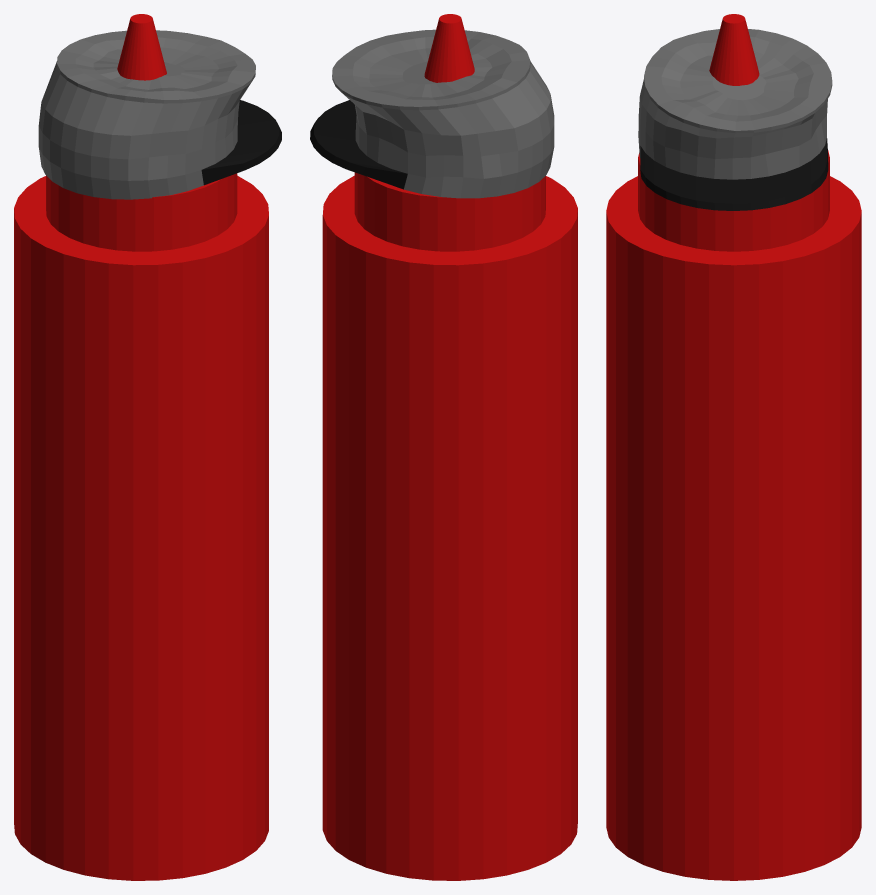
The model's file is KetchupBottle2.fbx.
3 views of the same model, side by side, from view 1: azimuth 30°, elevation 25°; view 2: azimuth 150°, elevation 25°; view 3: azimuth 270°, elevation 25° (orthographic).
Visible parts, largest first — view 1: Bottle, Hat; view 2: Bottle, Hat; view 3: Bottle, Hat.
Part boxes in pixels (left/top/right/bottom): Bottle: left=14, top=14, right=268, bottom=880; Hat: left=38, top=30, right=281, bottom=199; Bottle: left=322, top=14, right=577, bottom=880; Hat: left=310, top=29, right=554, bottom=198; Bottle: left=606, top=14, right=861, bottom=880; Hat: left=638, top=29, right=832, bottom=210.
Size of the model in its own units: 216 by 698 by 200.
